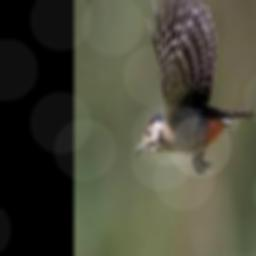Woodpecker: (130, 0, 253, 172)
